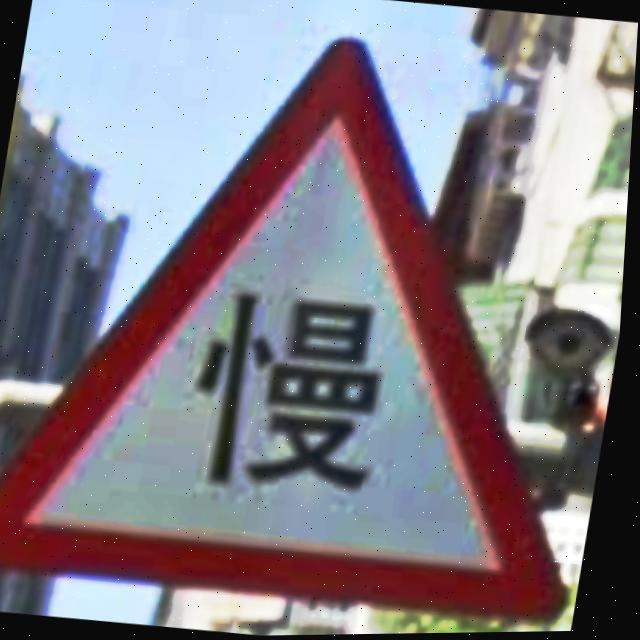slow: (0, 38, 576, 624)
